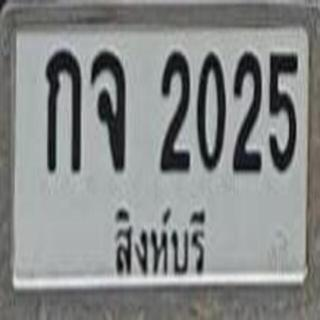A01: (39, 43, 88, 183)
A08: (87, 44, 134, 180)
N00: (193, 45, 228, 179)
N02: (154, 44, 194, 178), (230, 44, 265, 180)
N05: (263, 44, 301, 177)
P62: (105, 198, 212, 277)
